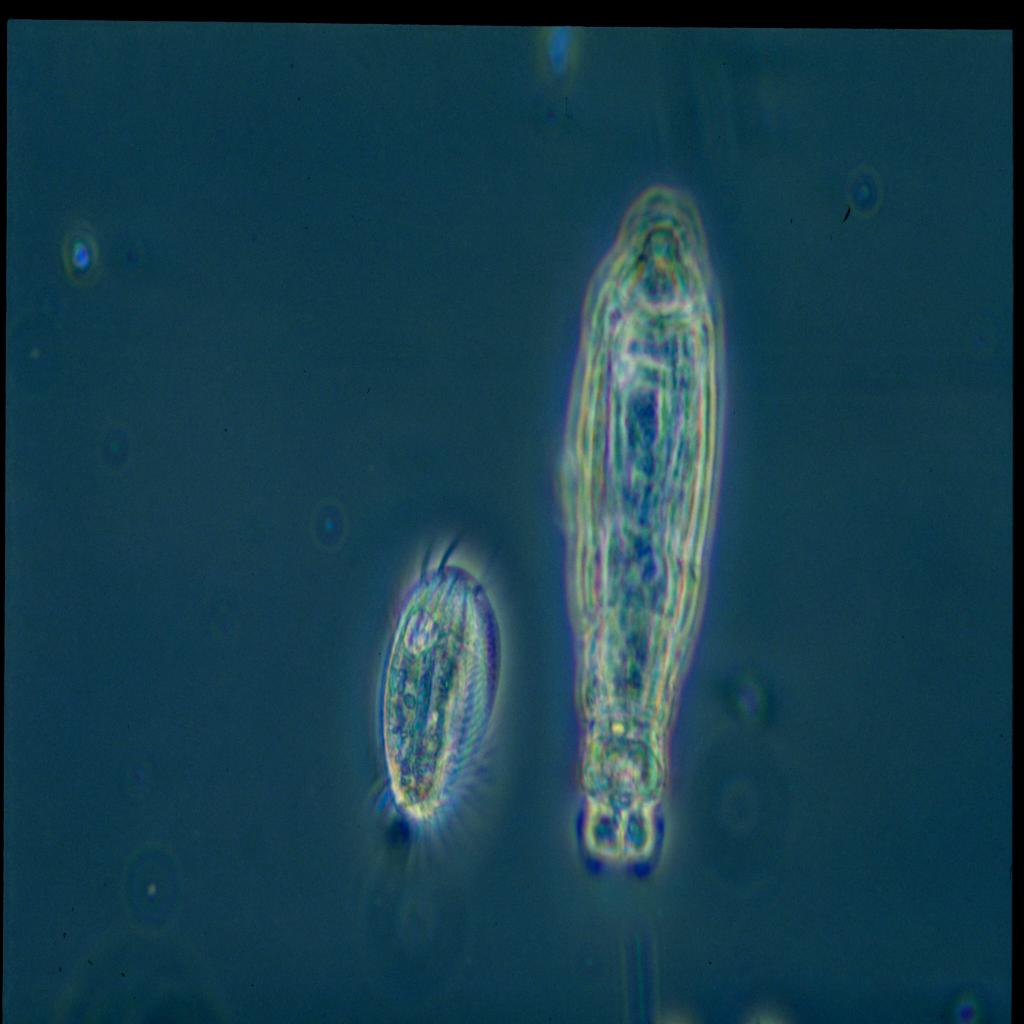Euplotes: (366, 509, 518, 888)
